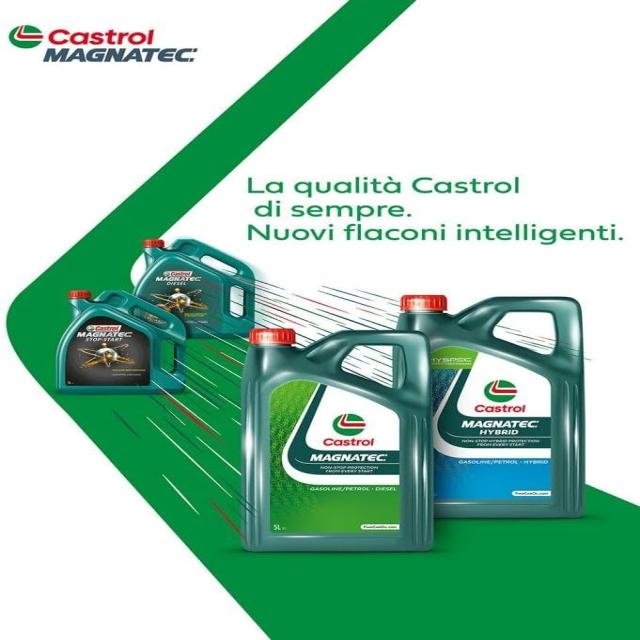motor_oil: (236, 324, 438, 556), (401, 285, 595, 521), (56, 286, 198, 392)
